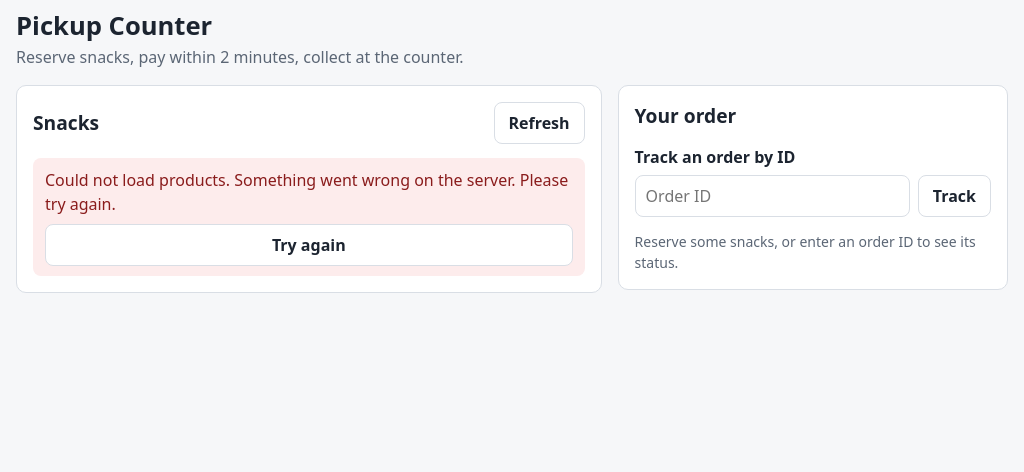
product catalog › shows an error with a retry when the API fails
Expected: the message shows "Could not load products. Something went wrong on the server. Please try again.", 33,158 -> 585,276
Click the button "Try again".
click(309, 245)  # box 45,224 -> 573,266
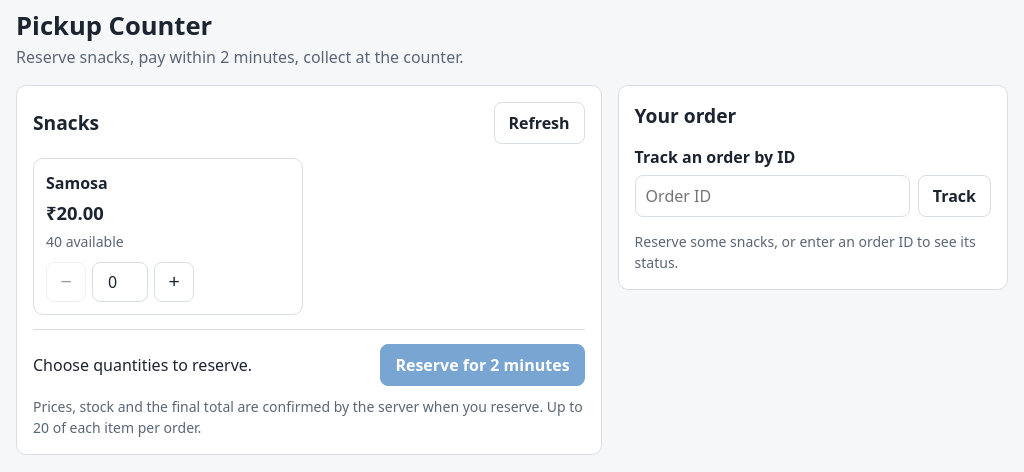
Now the heading "Samosa" is shown, box 46,172 -> 108,194
